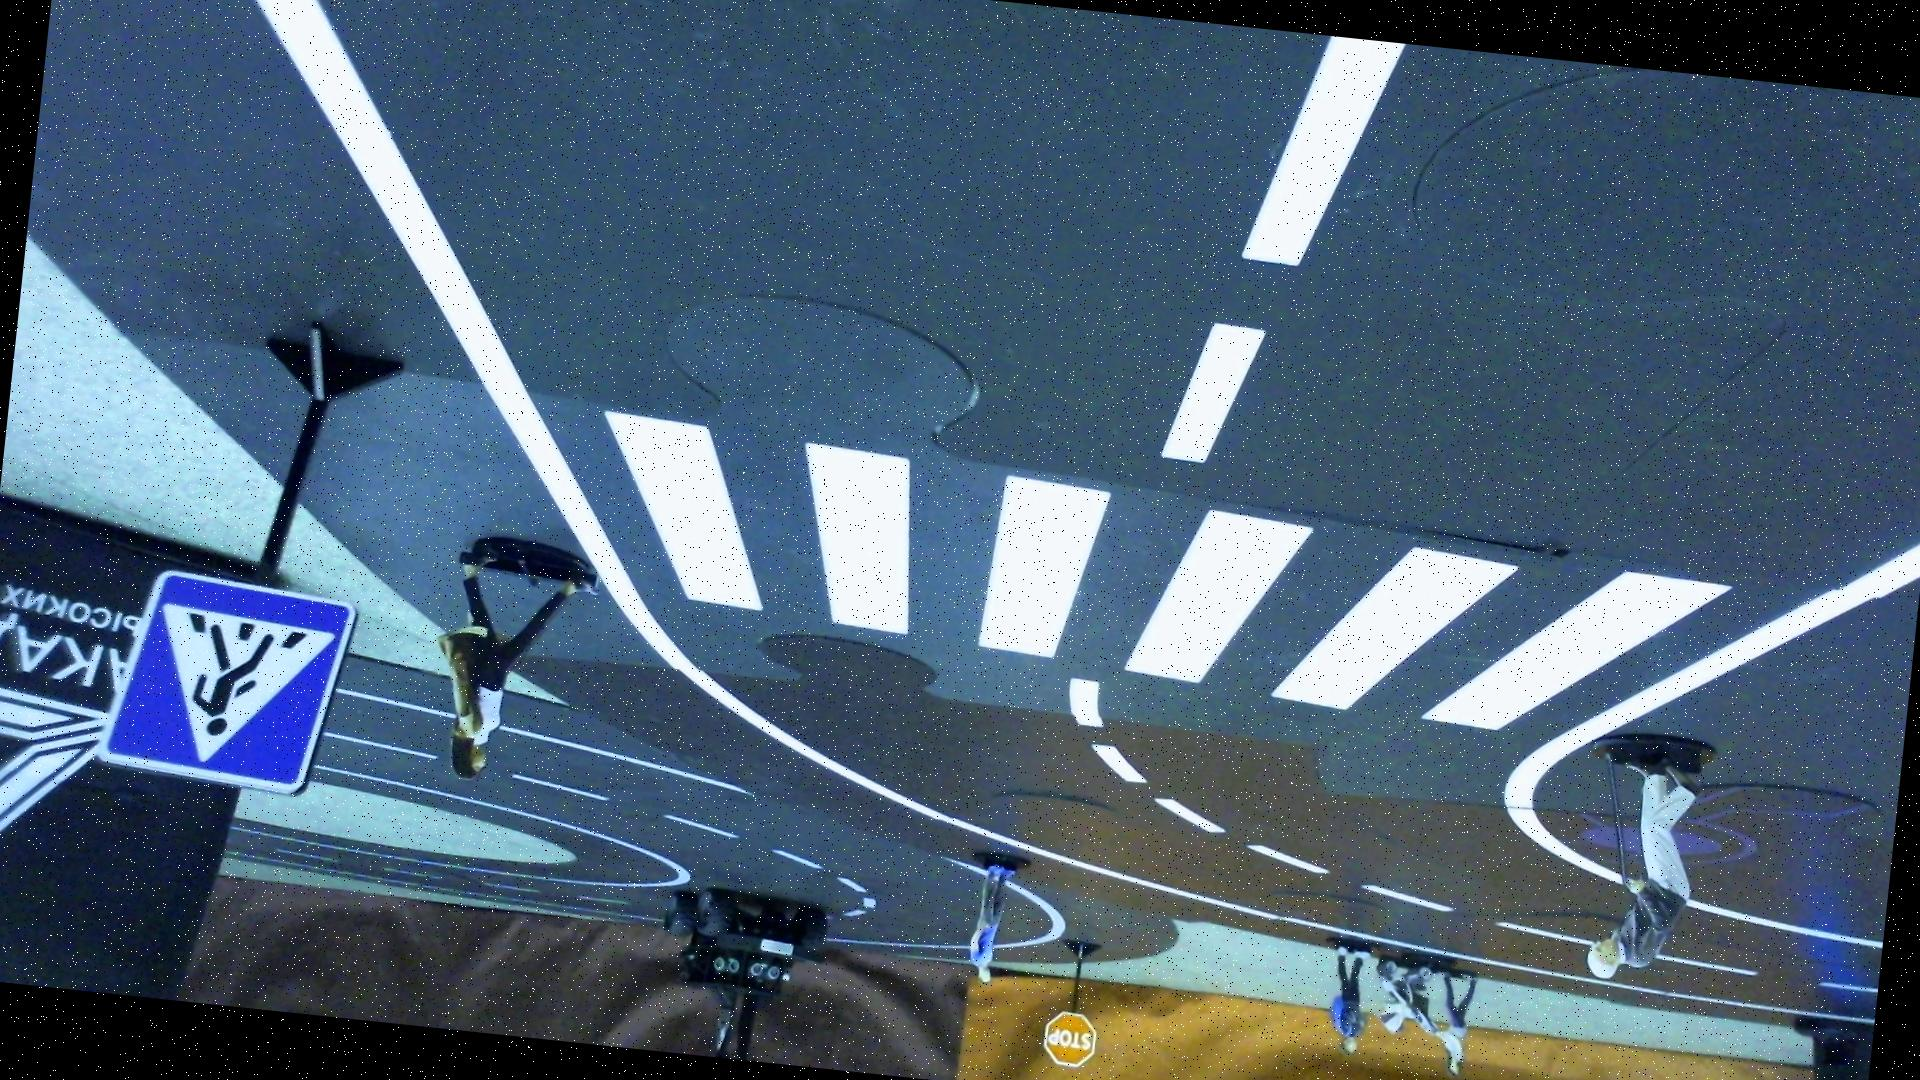crossing: (530, 387, 1772, 755)
person: (428, 525, 610, 792), (1568, 722, 1730, 996), (1368, 948, 1480, 1079), (960, 856, 1023, 992), (1319, 932, 1376, 1066)
